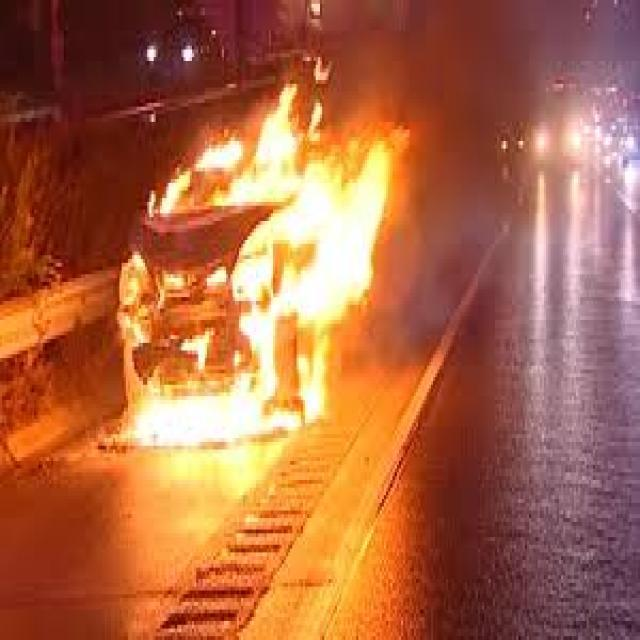Fire: (117, 125, 407, 457)
Smoke: (415, 8, 572, 154)
